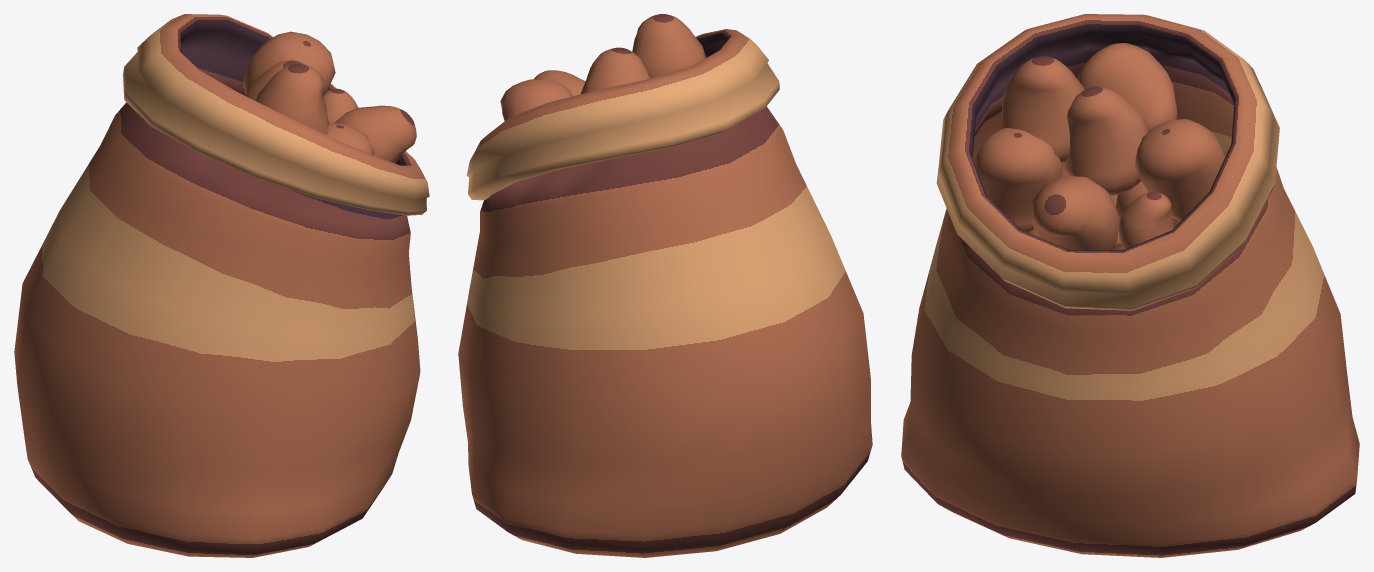
Rendered from Bolsa_Papa.fbx.
3 renders of one model, left to right at view 1: azimuth 30°, elevation 25°; view 2: azimuth 150°, elevation 25°; view 3: azimuth 270°, elevation 25°, orthographic. The views are drawn at different scales.
Visible parts, largest first — view 1: Bolsa_Papa; view 2: Bolsa_Papa; view 3: Bolsa_Papa.
Part boxes in pixels (left/top/right/bottom): Bolsa_Papa: left=14, top=14, right=429, bottom=557; Bolsa_Papa: left=458, top=14, right=872, bottom=557; Bolsa_Papa: left=901, top=14, right=1359, bottom=557.
Bounding box in the file's own units: 125 × 149 × 133.
